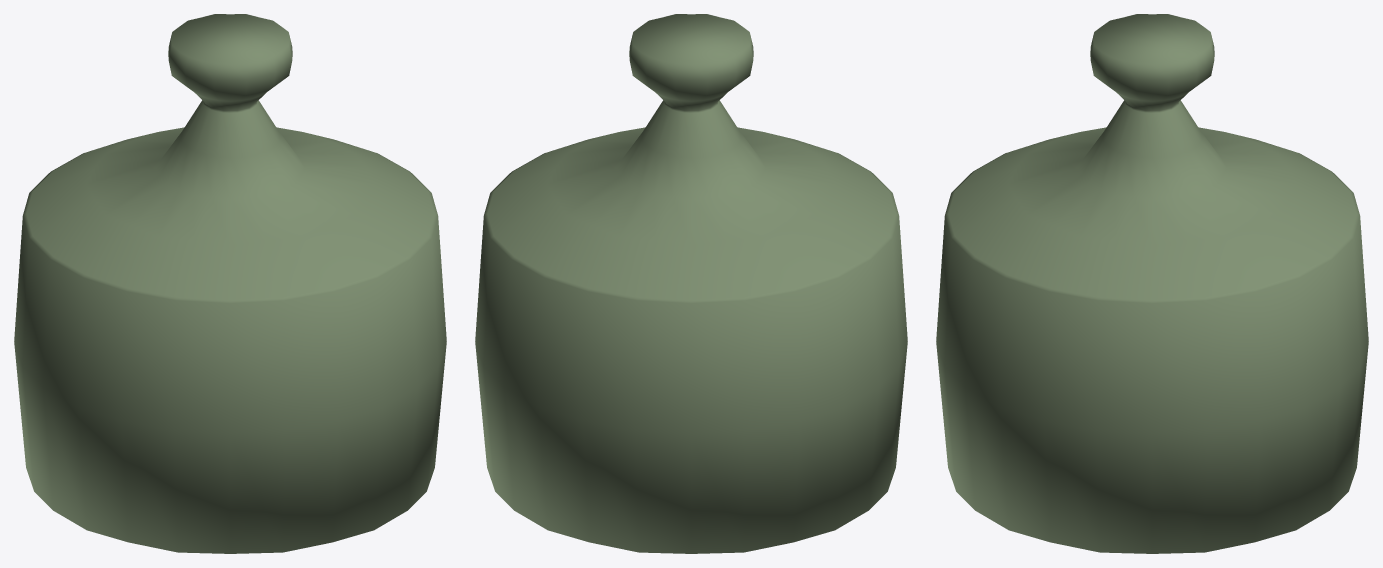
File: LargeWeight.fbx
3 views of the same model, side by side, from view 1: azimuth 30°, elevation 25°; view 2: azimuth 150°, elevation 25°; view 3: azimuth 270°, elevation 25° (orthographic).
Parts seen in each view (by area): view 1: LargeWeight; view 2: LargeWeight; view 3: LargeWeight.
Part boxes in pixels (x1=…): LargeWeight: x1=14, y1=14, x2=446, y2=553; LargeWeight: x1=475, y1=14, x2=907, y2=553; LargeWeight: x1=936, y1=14, x2=1368, y2=553.
Bounding box in the file's own units: 21.76 × 23.92 × 21.76.
